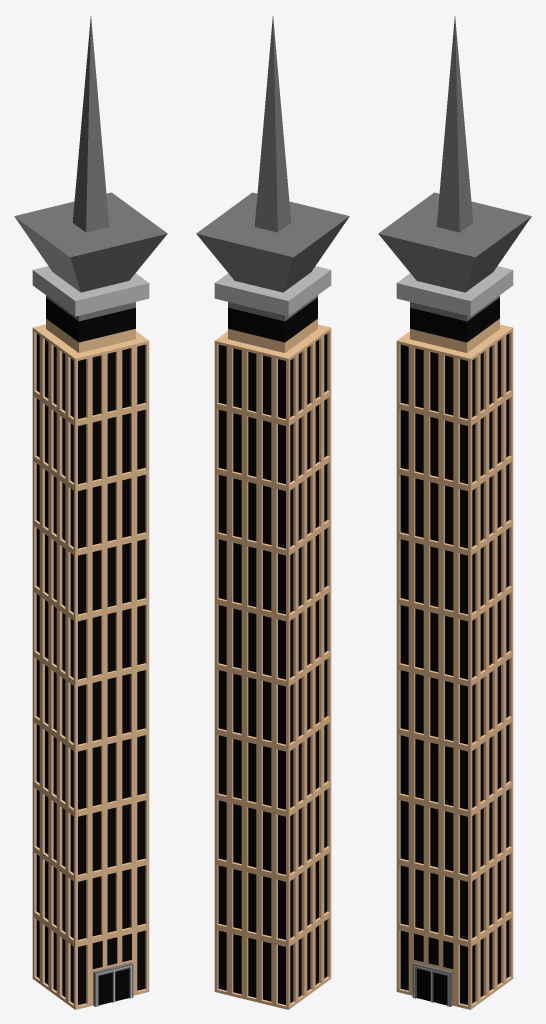
The model's file is SkyScraber0.fbx.
The picture shows the model from 3 angles, left to right: view 1: azimuth 30°, elevation 25°; view 2: azimuth 150°, elevation 25°; view 3: azimuth 330°, elevation 25°; orthographic projection.
Visible parts, largest first — view 1: SkyScraber0; view 2: SkyScraber0; view 3: SkyScraber0.
Boxes of the visible parts, x1,y1,x2,y2 form: SkyScraber0: (14,16,167,1009); SkyScraber0: (196,16,349,1009); SkyScraber0: (378,16,531,1009).
Bounding box in the file's own units: 3832 × 36481 × 3832.
